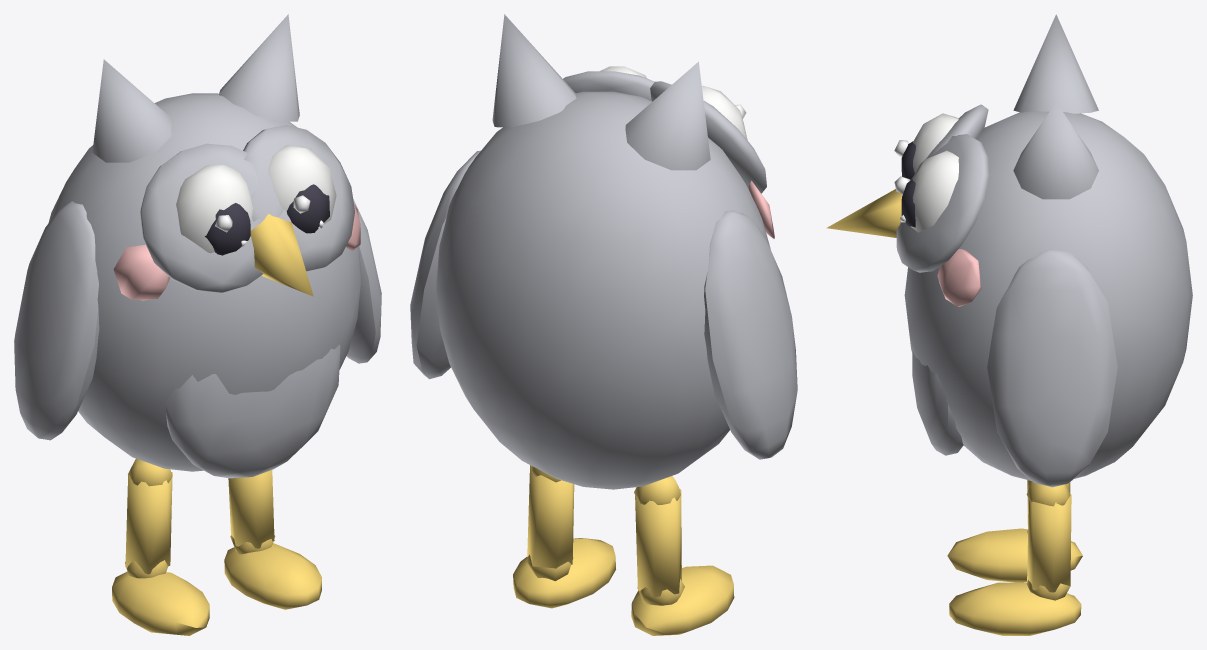
Rendered from Owl.fbx.
3 renders of one model, left to right at view 1: azimuth 30°, elevation 25°; view 2: azimuth 150°, elevation 25°; view 3: azimuth 270°, elevation 25°, orthographic. The views are drawn at different scales.
Parts seen in each view (by area): view 1: EX_Owl; view 2: EX_Owl; view 3: EX_Owl.
Boxes of the visible parts, x1,y1,x2,y2 form: EX_Owl: (14,14,381,635); EX_Owl: (410,14,797,635); EX_Owl: (826,14,1192,635).
Bounding box in the file's own units: 151 × 235 × 143.
